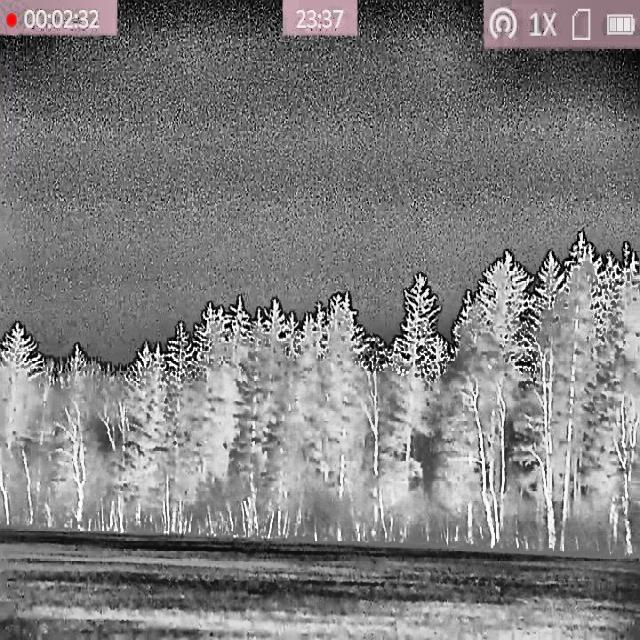drone: (396, 366, 411, 378)
